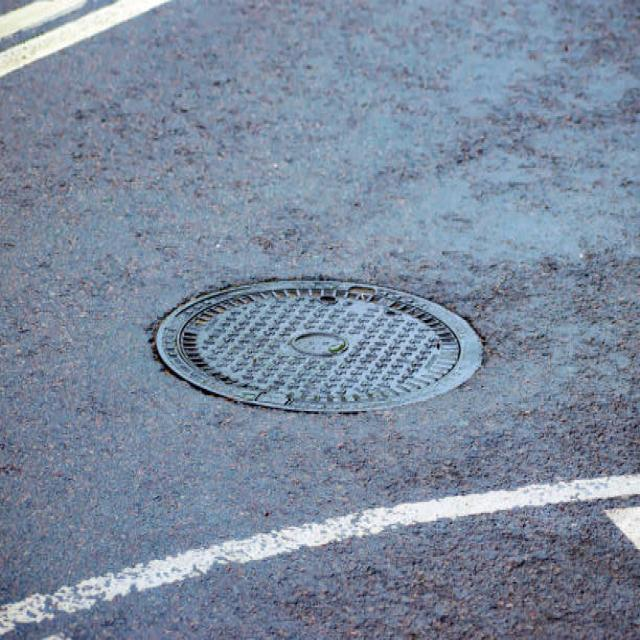Good: (150, 269, 492, 419)
